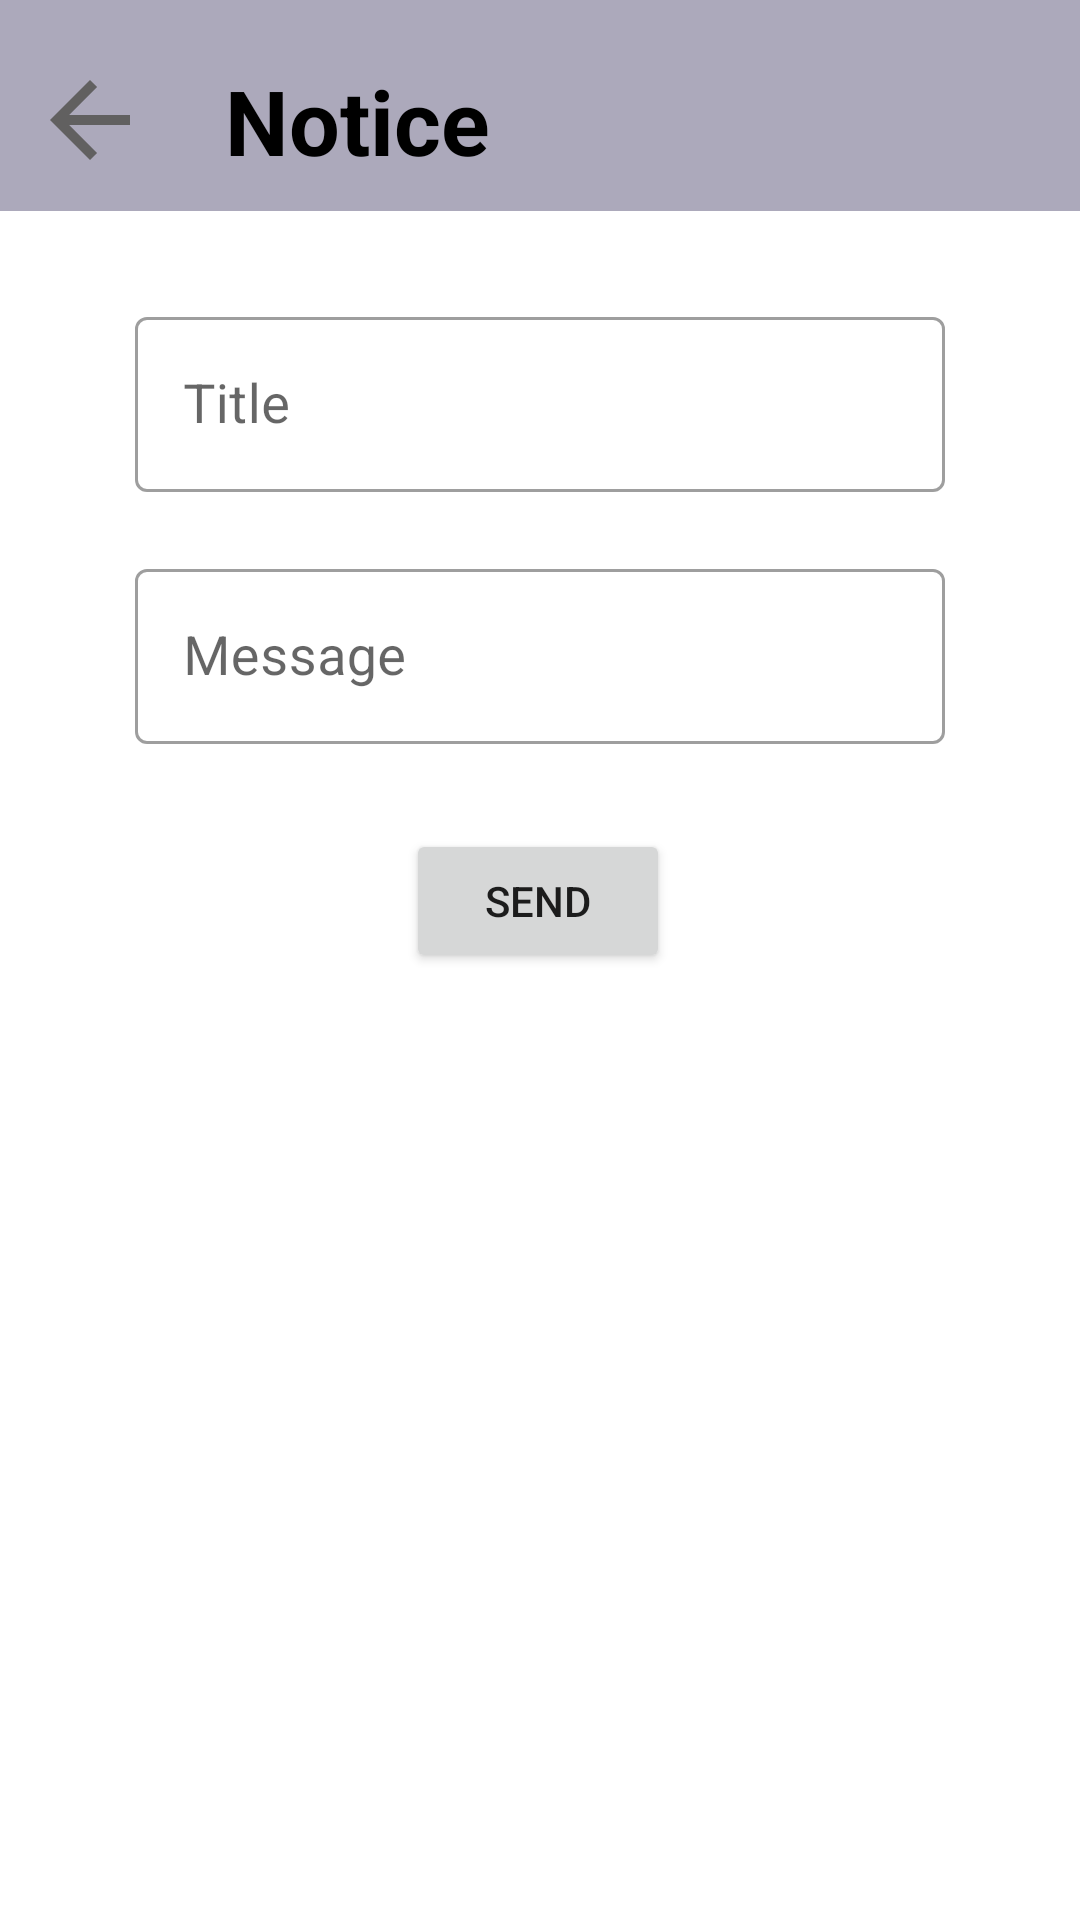

Point at icon controls on the screen. Image size 1080×1920, points as [x,y].
arrow back: [90,120]
